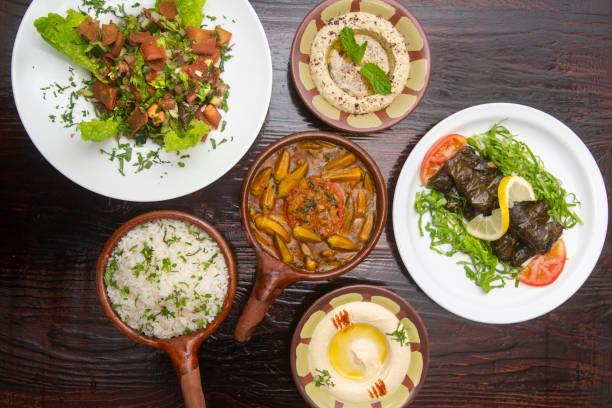Braised Crucian Carp: (11, 0, 270, 204), (392, 102, 606, 327), (242, 131, 382, 277), (96, 209, 232, 351), (288, 1, 430, 135), (289, 284, 429, 406)
